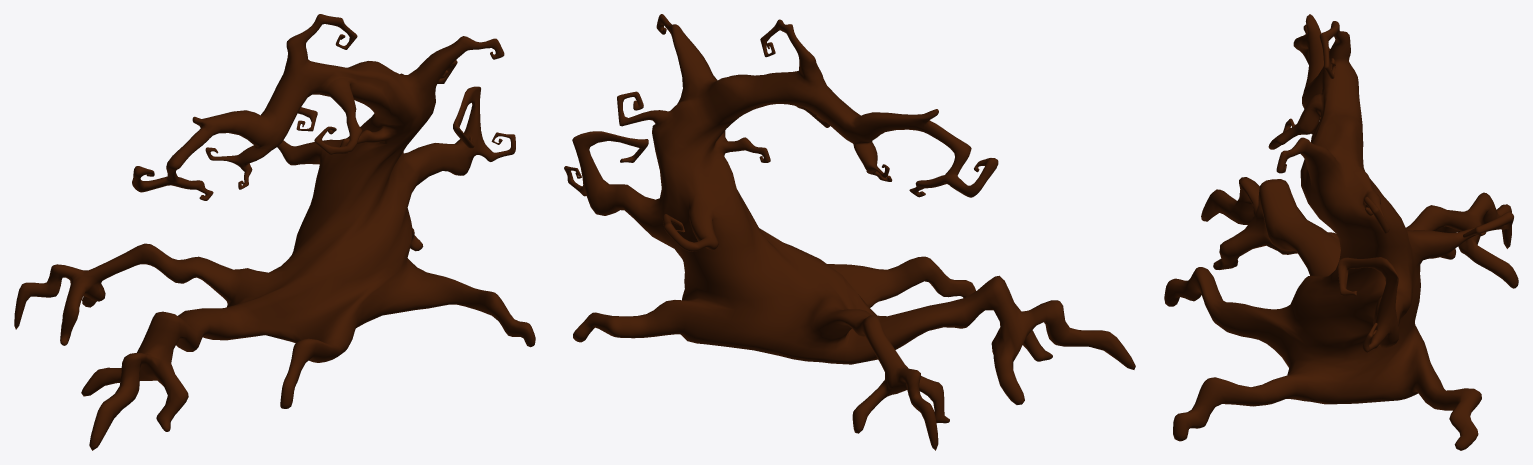
File: Tree_Original.fbx
3 views of the same model, side by side, from view 1: azimuth 30°, elevation 25°; view 2: azimuth 150°, elevation 25°; view 3: azimuth 270°, elevation 25° (orthographic). The views are drawn at different scales.
Visible parts, largest first — view 1: Tree Original; view 2: Tree Original; view 3: Tree Original.
Part boxes in pixels (bbox=[...]): Tree Original: bbox=[14, 14, 535, 450]; Tree Original: bbox=[564, 14, 1135, 450]; Tree Original: bbox=[1164, 14, 1518, 450].
Bounding box in the file's own units: 1121 × 701 × 627.
